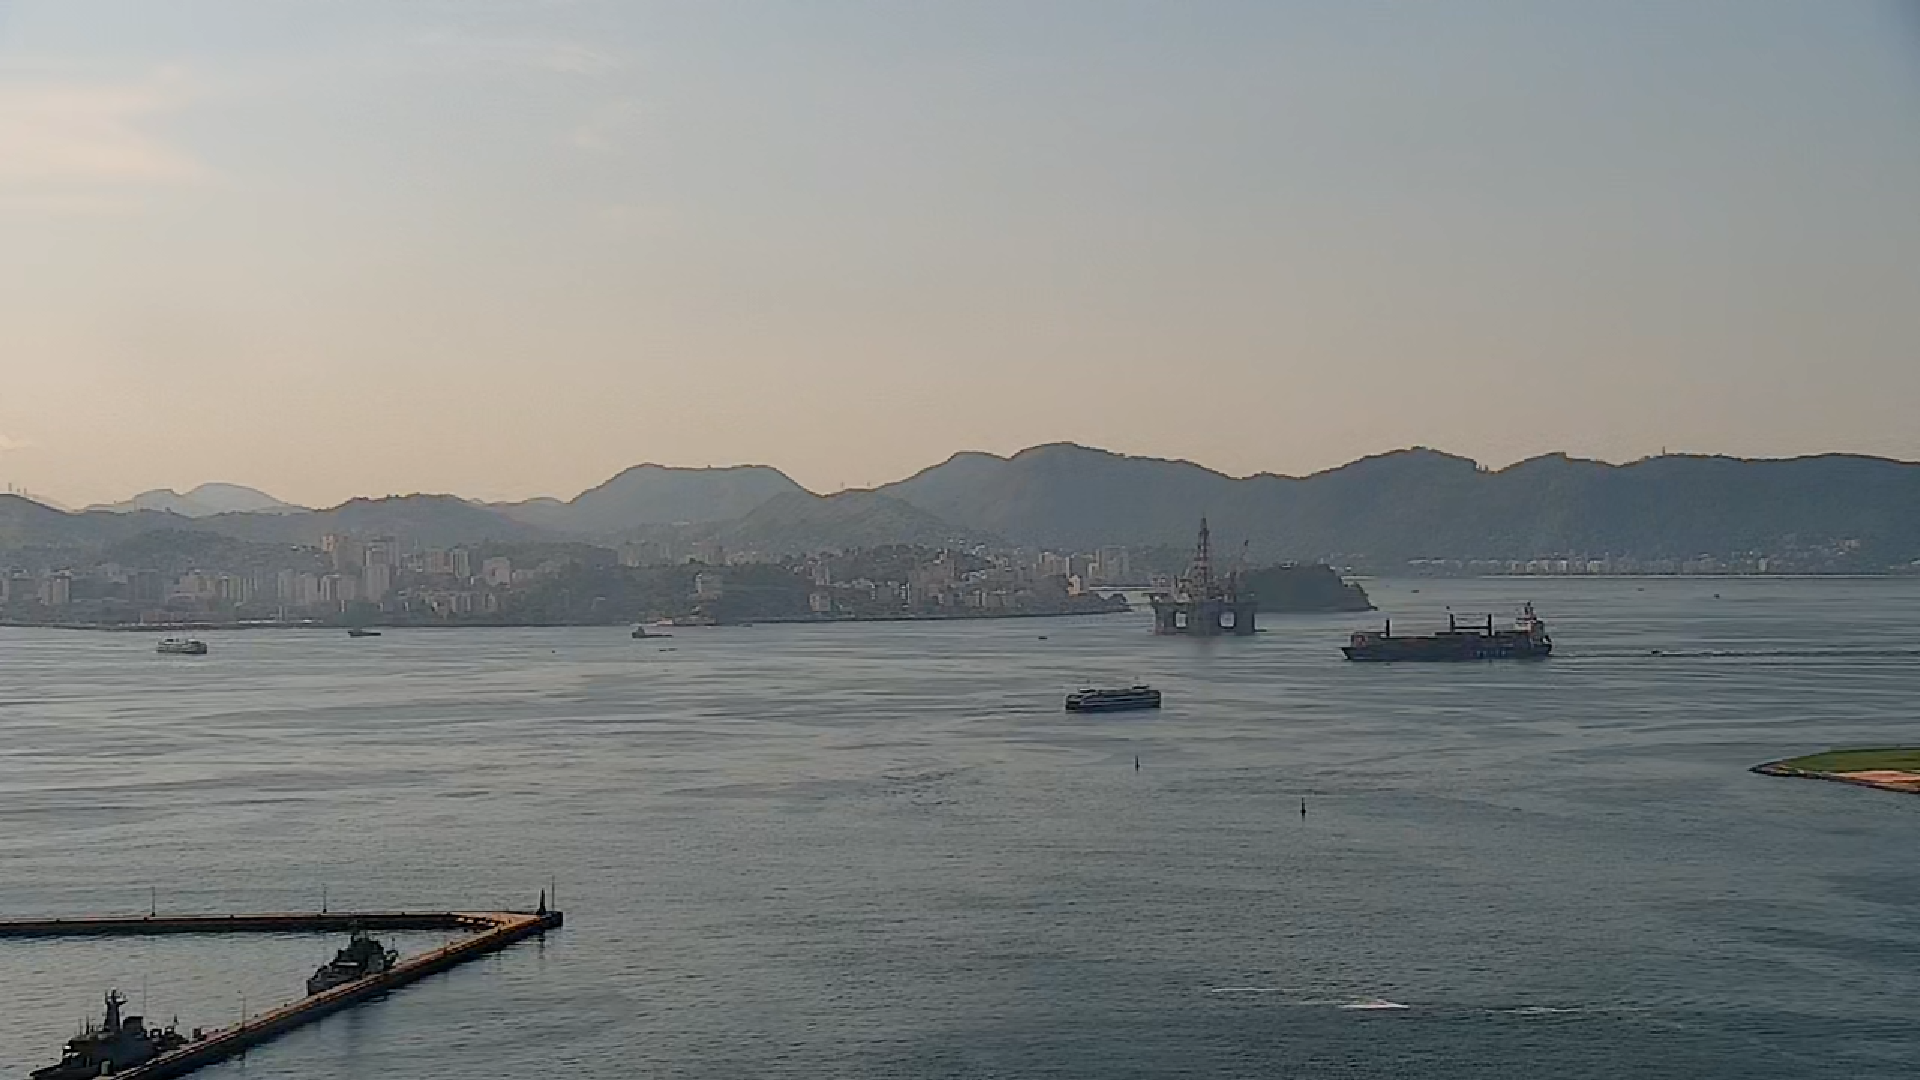Ship1: (1062, 676, 1164, 717), (156, 634, 210, 658)
Ship2: (1338, 615, 1563, 665)
Ship5: (630, 624, 675, 642), (347, 624, 382, 640)
